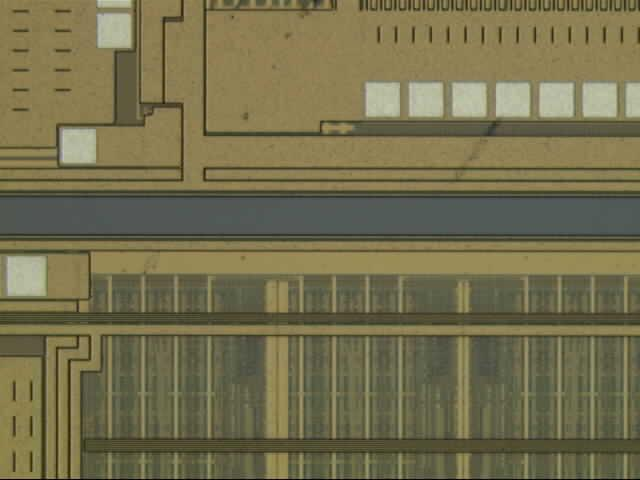SCRATCH: (123, 1, 530, 287)
